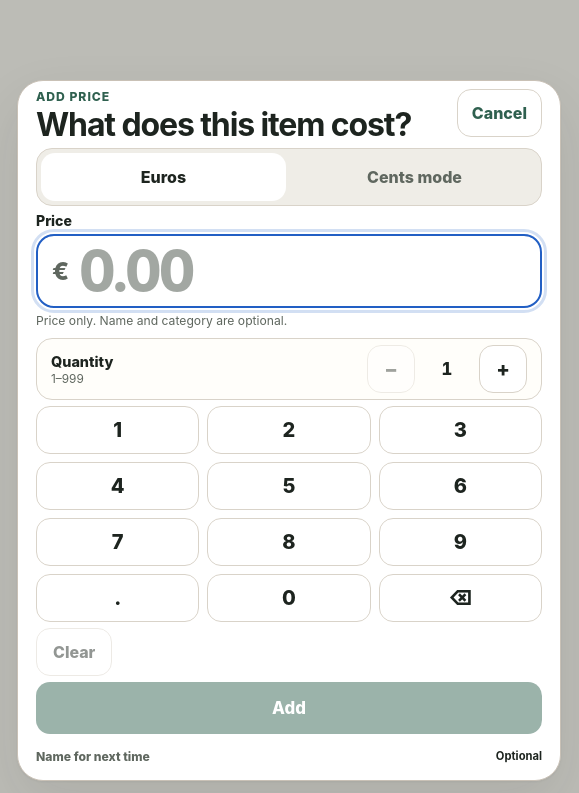
PriceEntrySurface › attributes only the new item's share when the cart is already using the buffer
The image size is (579, 793).
In the field labelled "Price": (302, 271) [77,236,526,306], type "2.00"
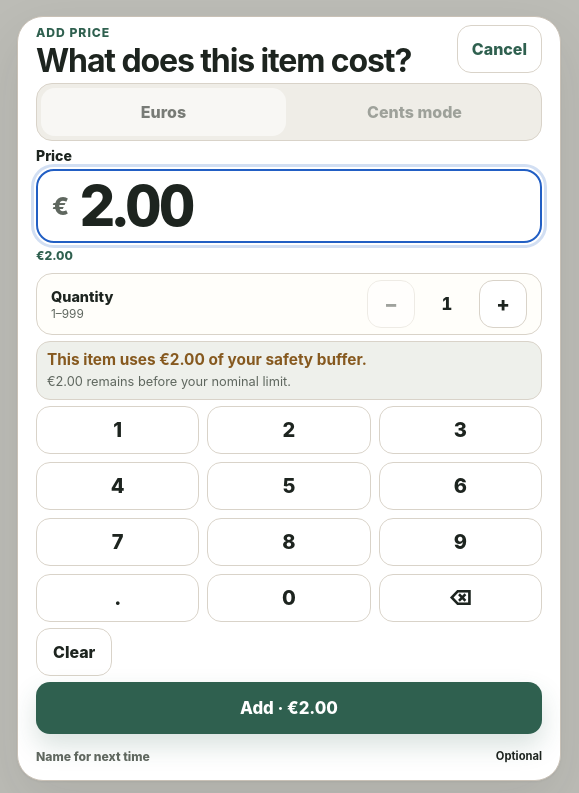
Check: the text "This item uses €2.00 of your safety buffer." is shown, box [47,350,367,369]
Check: the text "€2.00 remains before your nominal limit." is shown, box [47,374,291,389]
